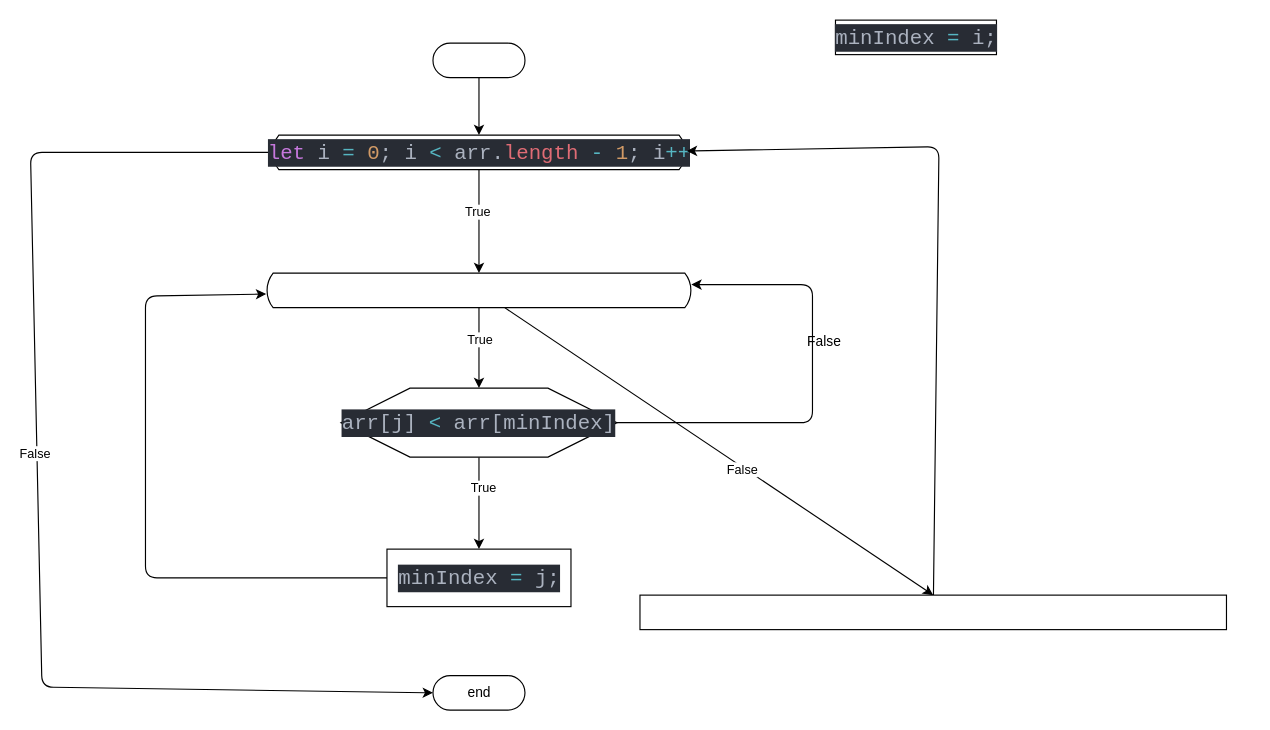
Image size: 1270x730. Some labels were removed from this diagram. Here are the shapes that lost their labels. From the top down, the centre of each, then its label:
At point 478,60: "start".
At point 478,290: "let j = i + 1 ; j < arr. length ; j ++".
At point 932,612: "[arr[i], arr[minIndex]] = [arr[minIndex], arr[i]];".
